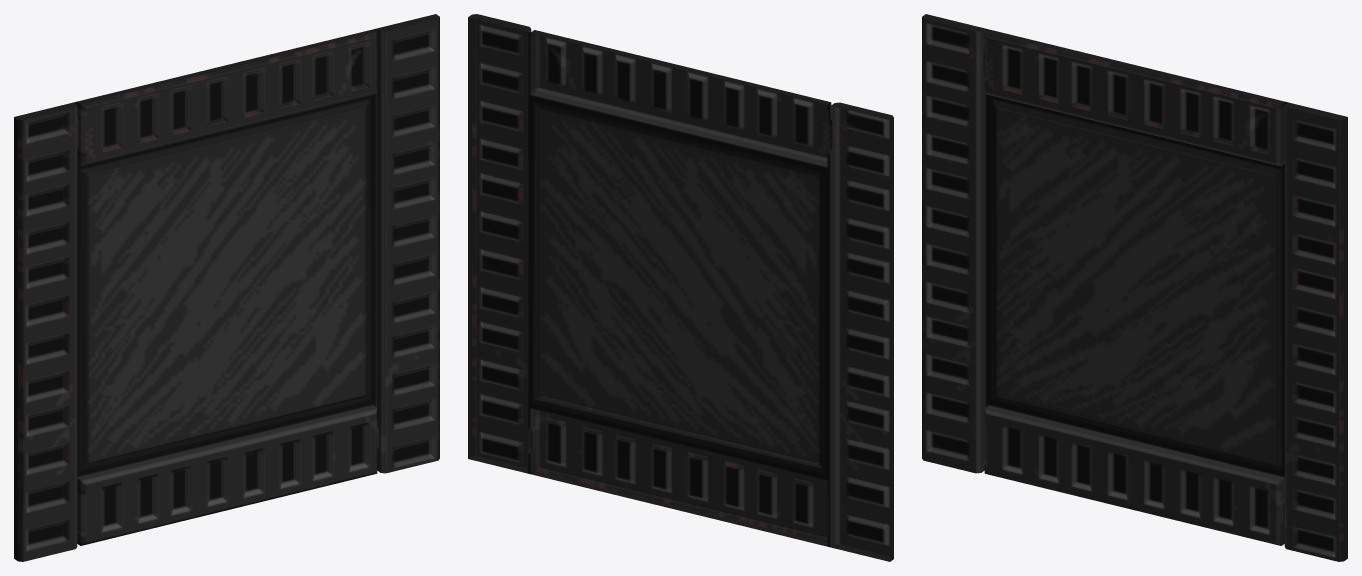
Rendered from exec2_4.fbx.
The picture shows the model from 3 angles, left to right: view 1: azimuth 30°, elevation 25°; view 2: azimuth 150°, elevation 25°; view 3: azimuth 330°, elevation 25°; orthographic projection.
Visible parts, largest first — view 1: exec2_4_mesh; view 2: exec2_4_mesh; view 3: exec2_4_mesh.
Boxes of the visible parts, x1,y1,x2,y2 form: exec2_4_mesh: (14,14,439,561); exec2_4_mesh: (468,14,893,561); exec2_4_mesh: (922,14,1347,561).
Bounding box in the file's own units: 256 × 256 × 6.
